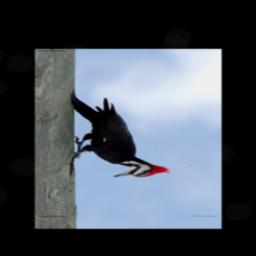Woodpecker: (66, 91, 170, 178)
